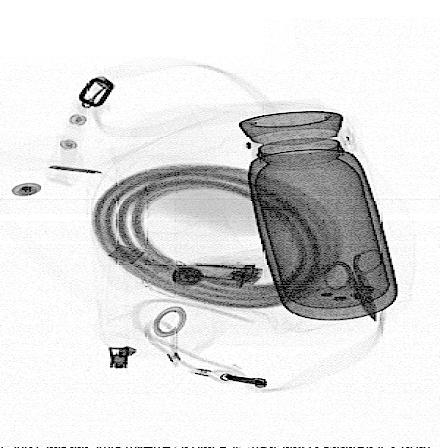Scissors: (321, 248, 386, 322)
